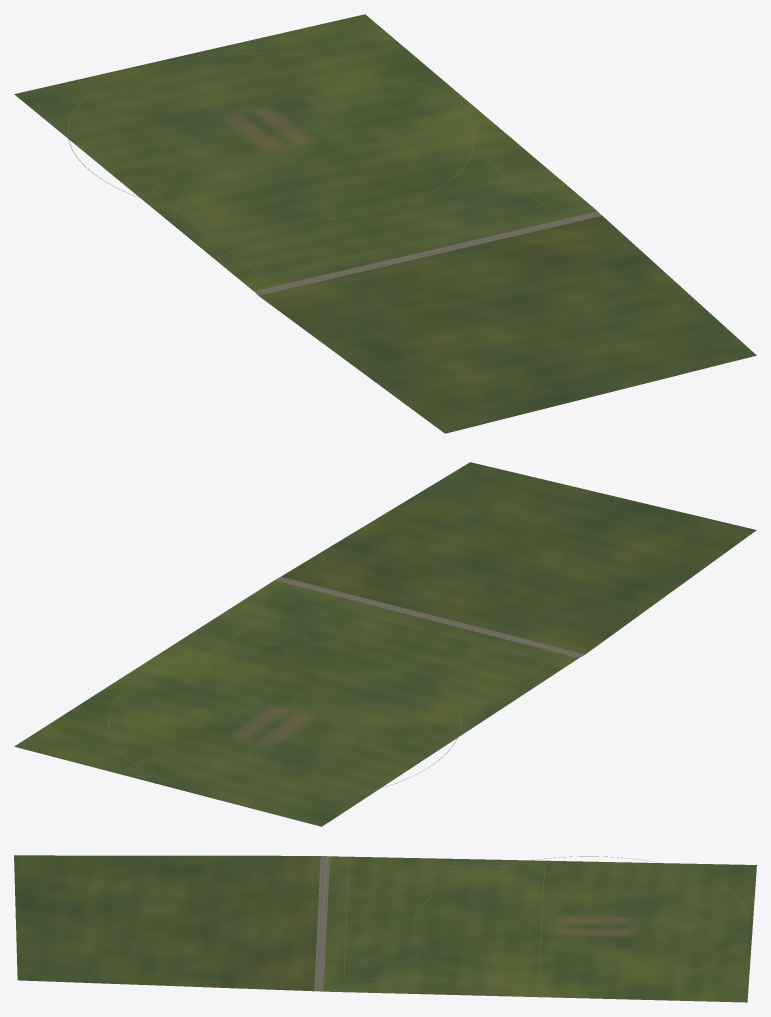
3 renders of one model, top to bottom at view 1: azimuth 30°, elevation 25°; view 2: azimuth 150°, elevation 25°; view 3: azimuth 270°, elevation 25°, orthographic. The views are drawn at different scales.
Bounding box in the file's own units: 127 × 0.1906 × 272.
2 materials, 2 textured.
